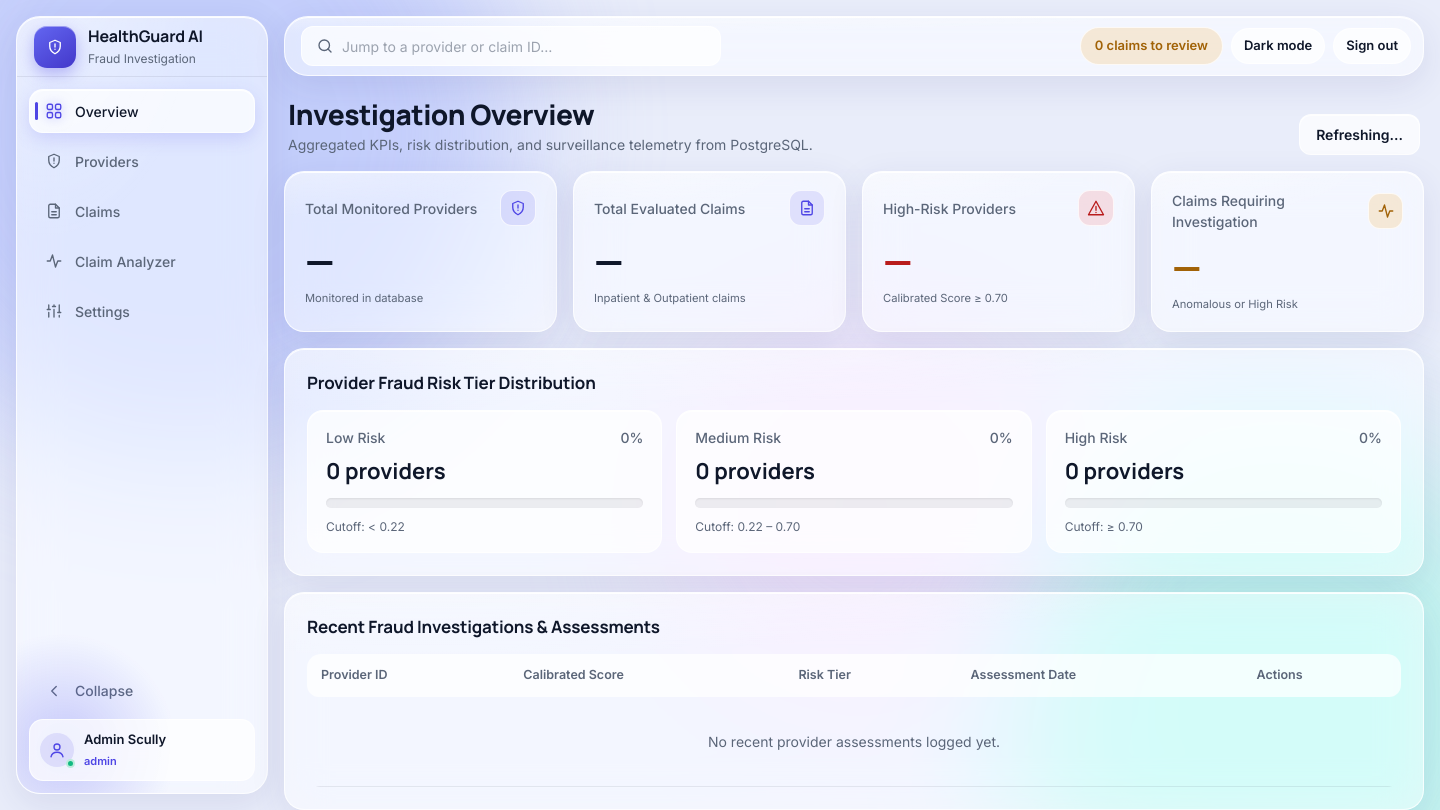
it: HealthGuard AI Frontend Integration Tests › navigates to Providers and Claim Analyzer tabs
Expected: the text "Admin Scully" is shown, [84,730,166,749]
Navigate to Providers
Click the button "Providers". click: (142, 161)
box: [29,139,255,183]
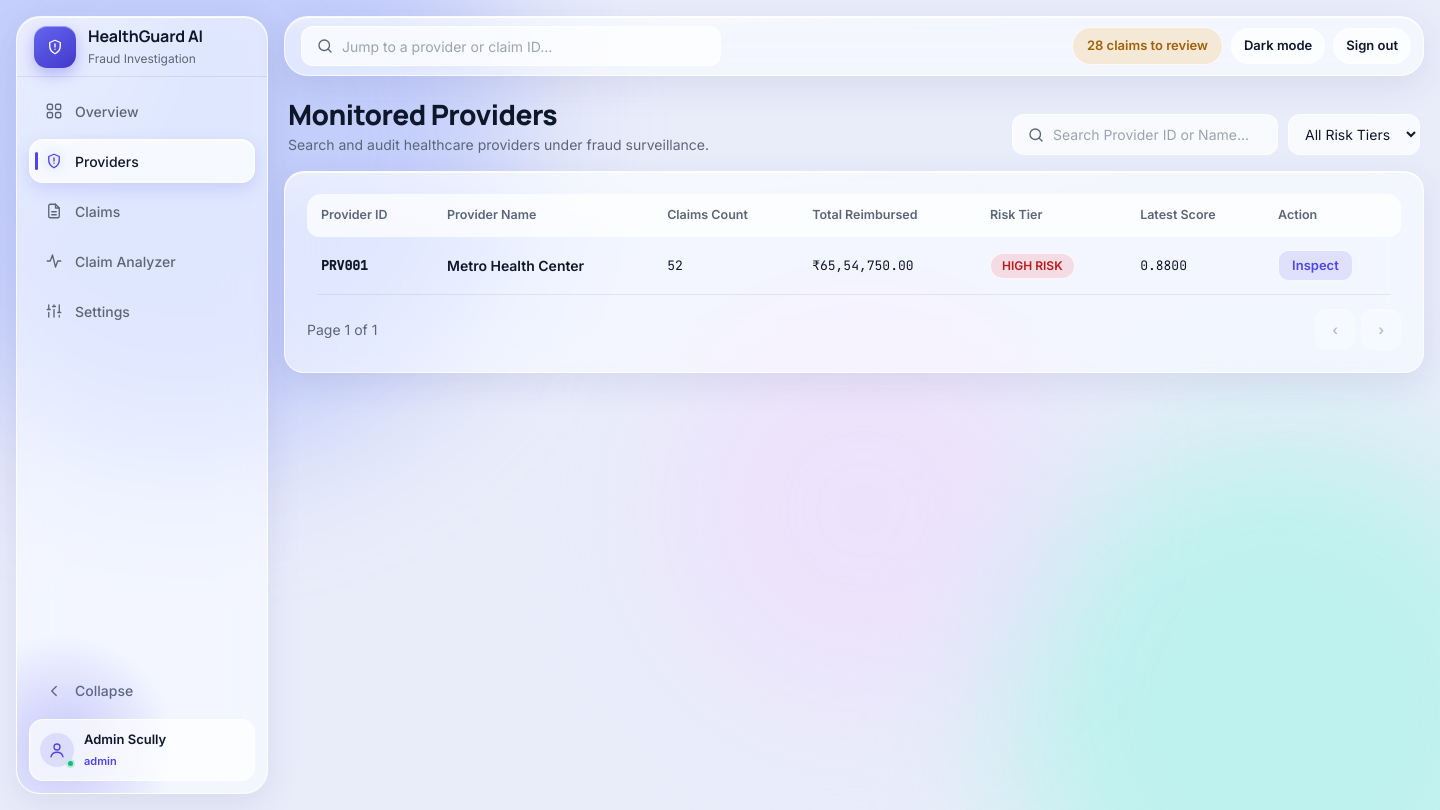
Now the field with placeholder "Search Provider ID or Name..." is shown, box [1053,124,1263,145]
Now the text "PRV001" is shown, box [321,257,368,274]
Now the text "Metro Health Center" is shown, box [447,257,584,274]
Navigate to Claim Analyzer
Click the button "Claim Analyzer". click: (142, 261)
box: [29,239,255,283]
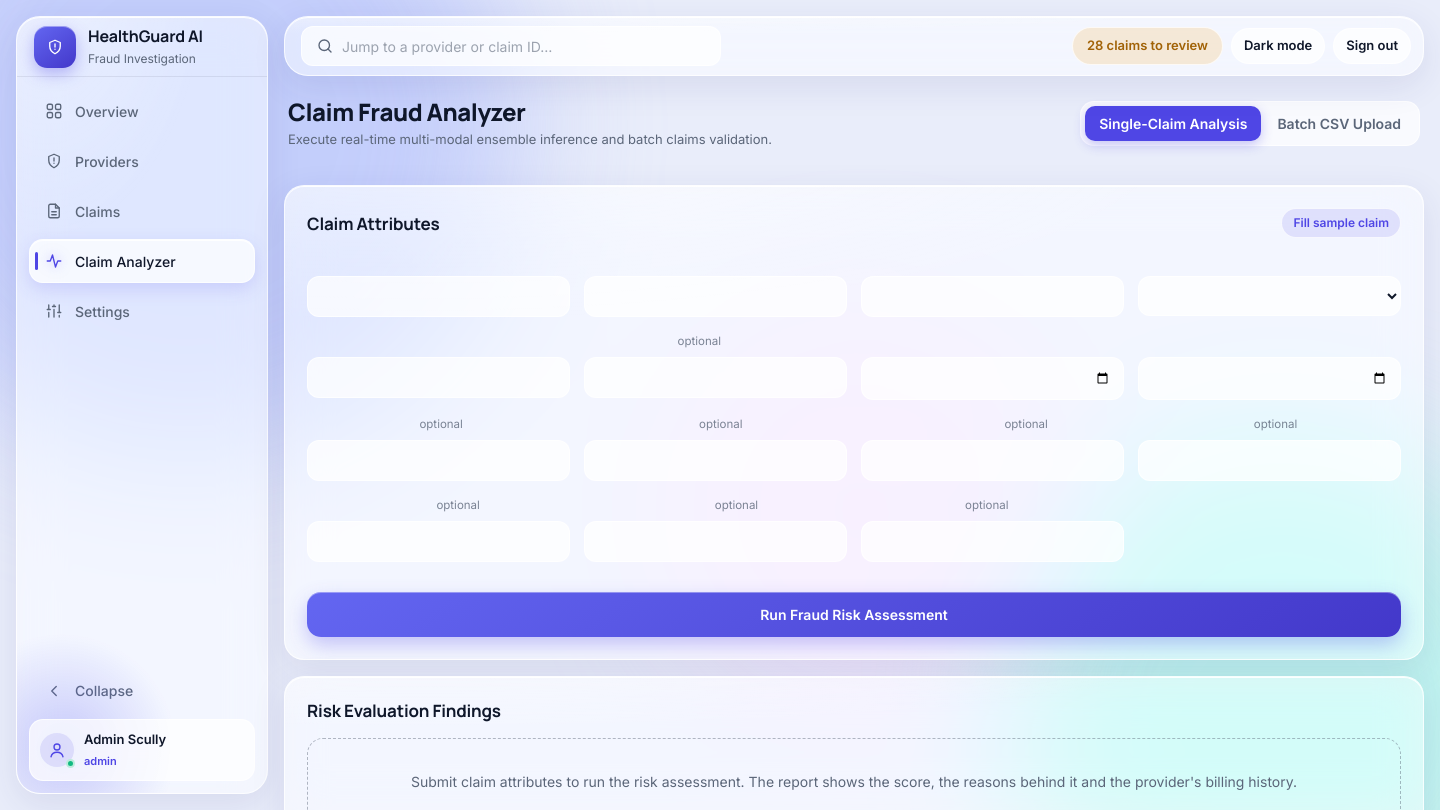
Now the heading "Claim Fraud Analyzer" is shown, box [288,95,526,128]
Now the button "Single-Claim Analysis" is shown, box [1085,106,1261,141]
Now the button "Batch CSV Upload" is shown, box [1263,106,1415,141]
